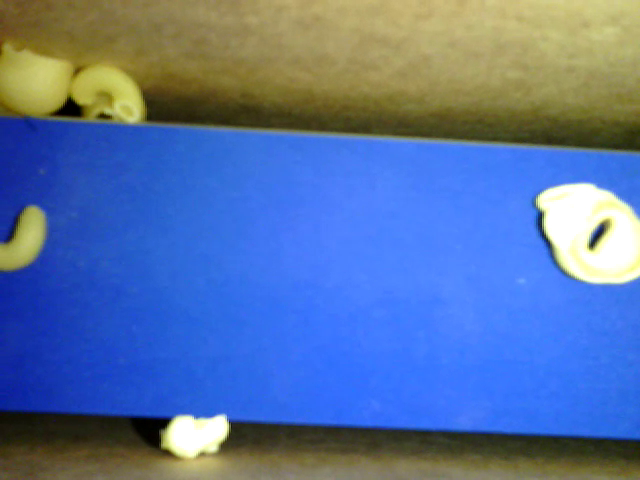elbow: (72, 61, 143, 119), (1, 204, 48, 271)
shell: (1, 41, 76, 114)
tortellini: (535, 182, 639, 285)
